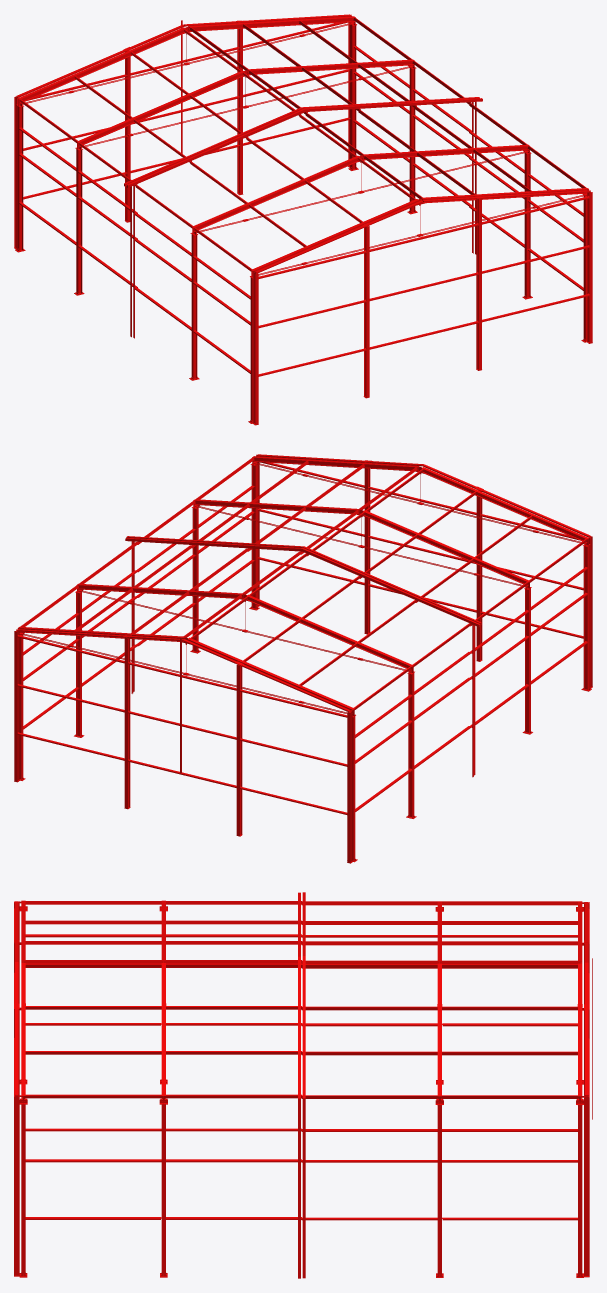
The picture shows the model from 3 angles, top to bottom: view 1: azimuth 30°, elevation 25°; view 2: azimuth 150°, elevation 25°; view 3: azimuth 270°, elevation 25°; orthographic projection. The views are drawn at different scales.
Parts seen in each view (by area): view 1: mainHouse.189, mainHouse.293, mainHouse.017, mainHouse.027, mainHouse.217, mainHouse.093, mainHouse.103, mainHouse.238, mainHouse.314, mainHouse.008, mainHouse.018, mainHouse.284 (+14 smaller); view 2: mainHouse.188, mainHouse.124, mainHouse.048, mainHouse.027, mainHouse.283, mainHouse.293, mainHouse.207, mainHouse.217, mainHouse.103, mainHouse.314, mainHouse.238, mainHouse.018 (+15 smaller); view 3: mainHouse.119, mainHouse.233, mainHouse.198, mainHouse.208, mainHouse.084, mainHouse.094, mainHouse.188, mainHouse.378, mainHouse.207, mainHouse.093, mainHouse.103, mainHouse.217 (+46 smaller).
Part boxes in pixels (<box>): mainHouse.189: <box>127,98,482,187</box>; mainHouse.293: <box>192,155,359,231</box>; mainHouse.017: <box>18,27,185,103</box>; mainHouse.027: <box>77,70,244,146</box>; mainHouse.217: <box>362,144,529,160</box>; mainHouse.093: <box>188,16,355,31</box>; mainHouse.103: <box>247,59,414,74</box>; mainHouse.238: <box>476,198,481,370</box>; mainHouse.314: <box>364,226,369,397</box>; mainHouse.008: <box>17,106,23,250</box>; mainHouse.018: <box>76,149,82,293</box>; mainHouse.284: <box>191,234,197,378</box>; mainHouse.188: <box>125,537,480,627</box>; mainHouse.124: <box>124,637,130,808</box>; mainHouse.048: <box>236,665,242,836</box>; mainHouse.027: <box>246,594,413,670</box>; mainHouse.283: <box>422,467,588,543</box>; mainHouse.293: <box>363,510,530,586</box>; mainHouse.207: <box>252,456,419,471</box>; mainHouse.217: <box>193,499,360,514</box>; mainHouse.103: <box>77,583,243,599</box>; mainHouse.314: <box>476,490,482,661</box>; mainHouse.238: <box>364,468,370,633</box>; mainHouse.018: <box>408,673,414,817</box>; mainHouse.119: <box>584,1095,589,1276</box>; mainHouse.233: <box>14,1095,19,1276</box>; mainHouse.198: <box>21,1104,25,1274</box>; mainHouse.208: <box>161,1104,165,1274</box>; mainHouse.084: <box>578,1105,582,1274</box>; mainHouse.094: <box>437,1105,441,1274</box>; mainHouse.188: <box>302,892,305,1101</box>; mainHouse.378: <box>302,1101,305,1278</box>; mainHouse.207: <box>21,963,25,1100</box>; mainHouse.093: <box>578,963,582,1100</box>; mainHouse.103: <box>437,963,441,1100</box>; mainHouse.217: <box>161,963,165,1100</box>.
Size of the model in its own units: 6711 by 3377 by 7953.
